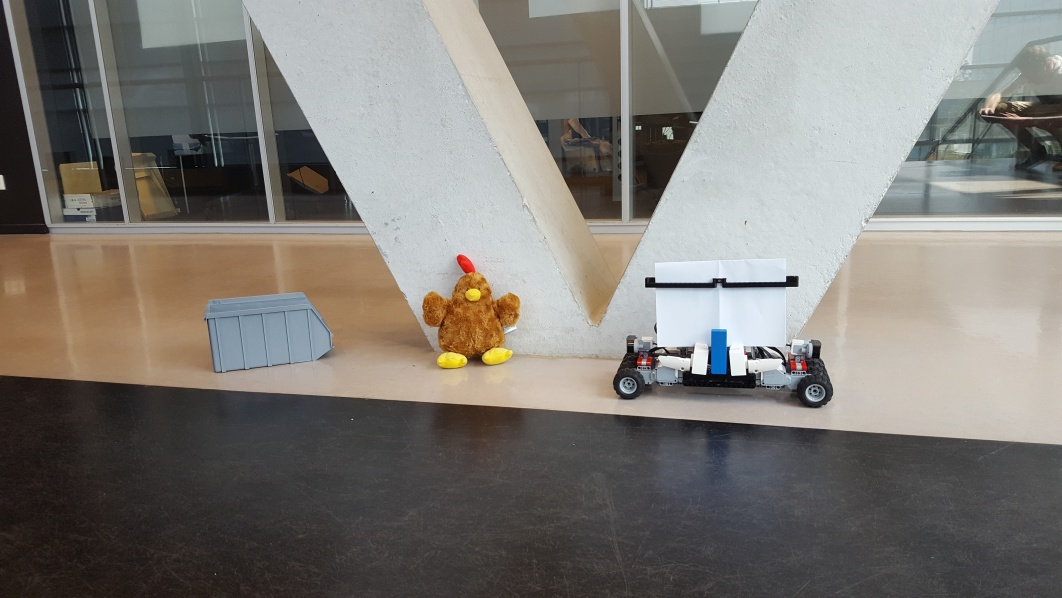car: (611, 259, 833, 409)
chicken: (423, 254, 520, 372)
tray: (204, 292, 333, 374)
